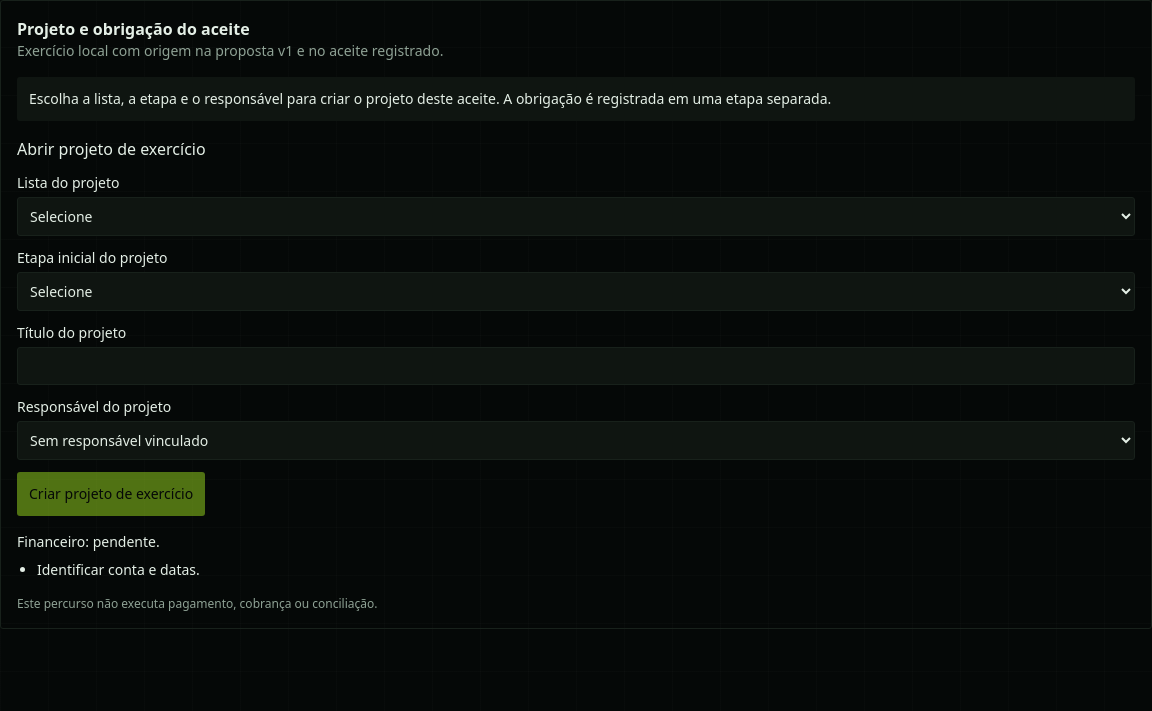
Test case: ponte comercial com API simulada › resposta perdida preserva só identificadores e recovery GET404 não libera outro POST
Select "Lista QA" in the dropdown labelled "Lista do projeto" at coordinates (576, 216), box left=17, top=197, right=1135, bottom=236
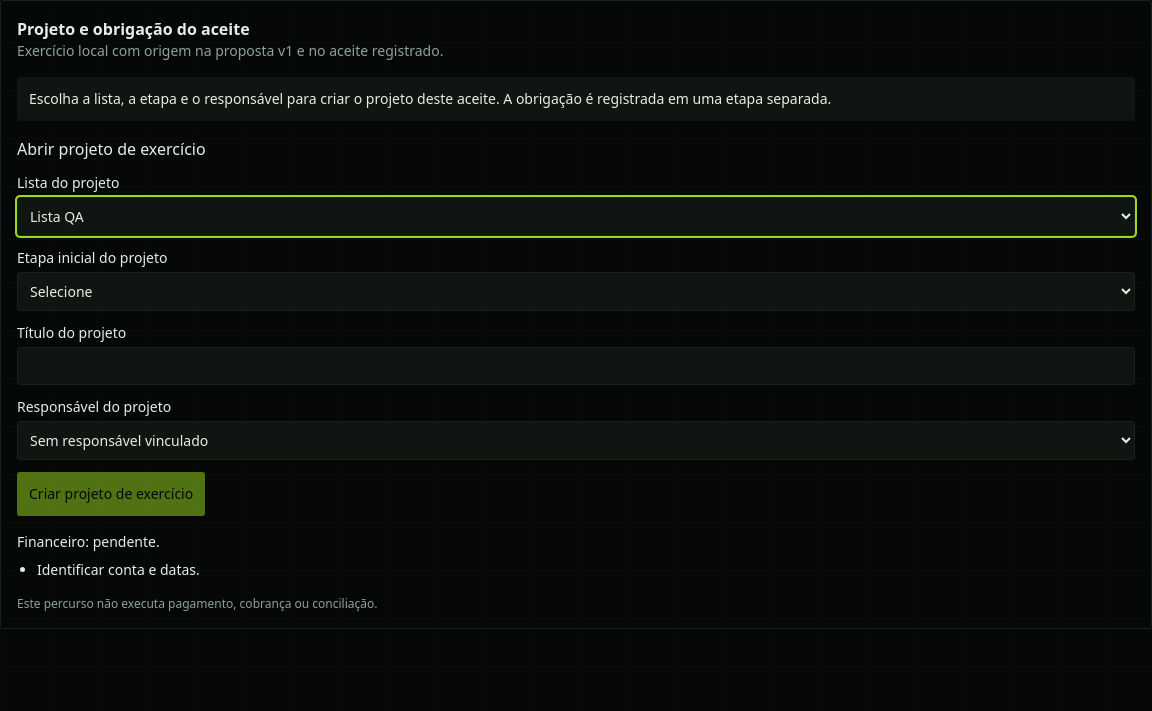
Select "Etapa QA" in the dropdown labelled "Etapa inicial do projeto" at coordinates (576, 292), box left=17, top=272, right=1135, bottom=311
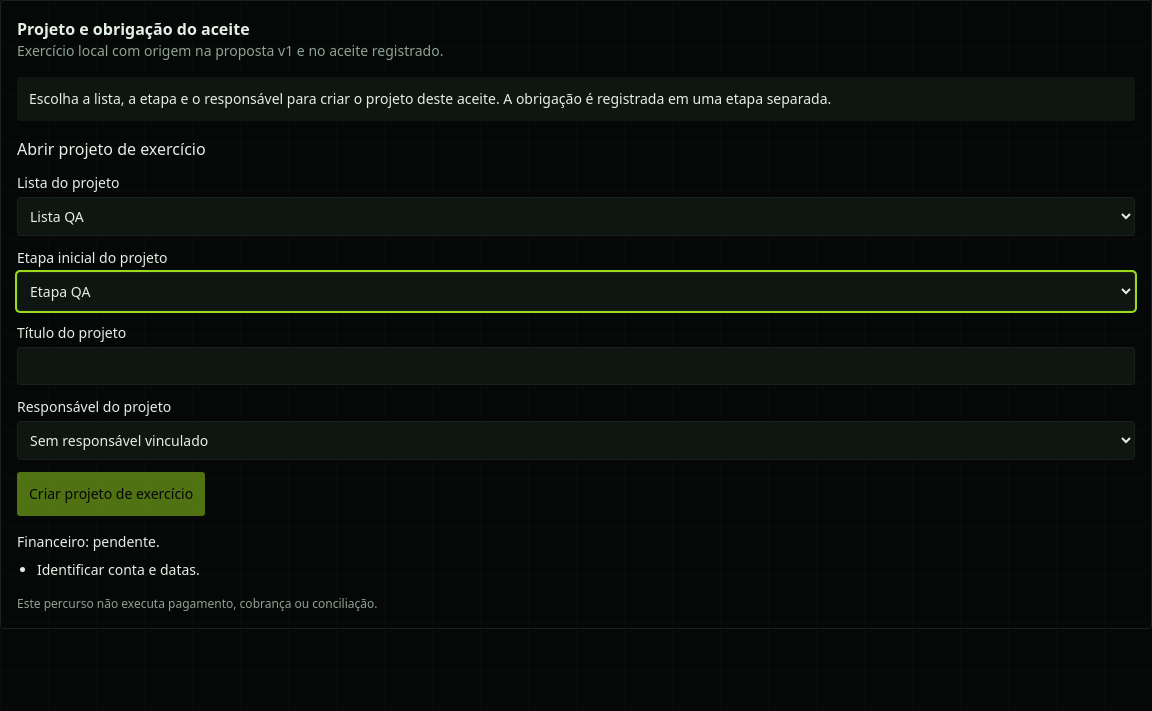
Type "Projeto QA privado" into the field labelled "Título do projeto" at coordinates (576, 366), box left=17, top=347, right=1135, bottom=385
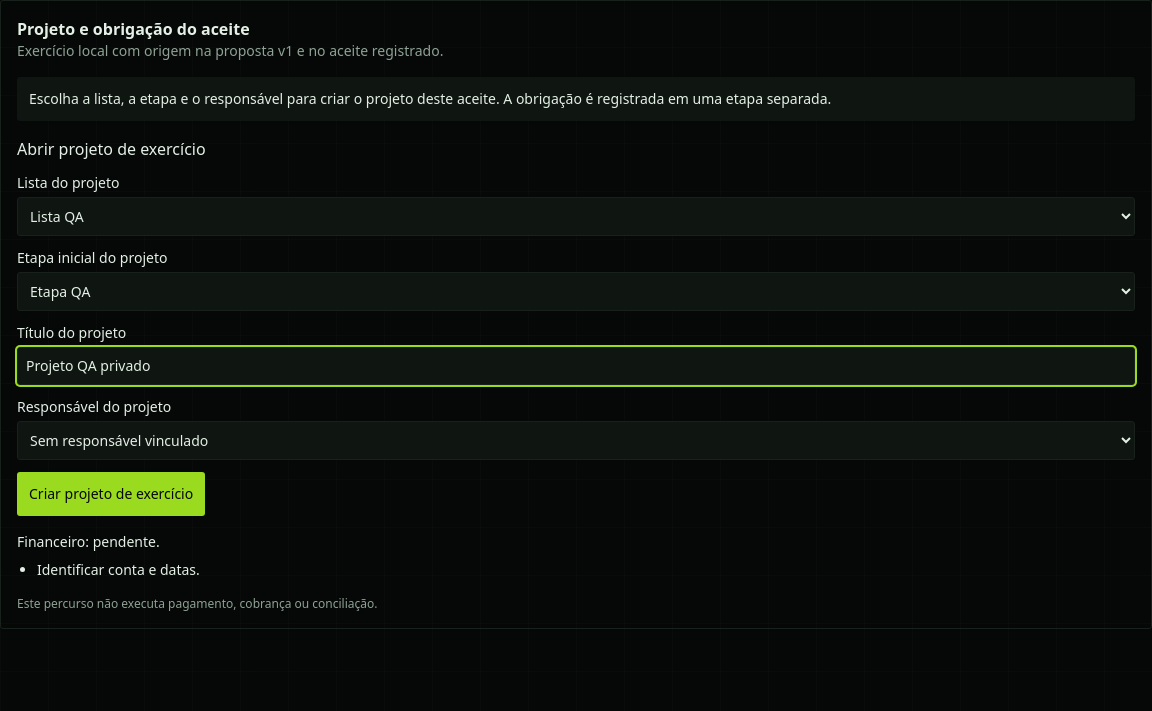
Click the button "Criar projeto de exercício" at coordinates (111, 494), box left=17, top=472, right=205, bottom=516
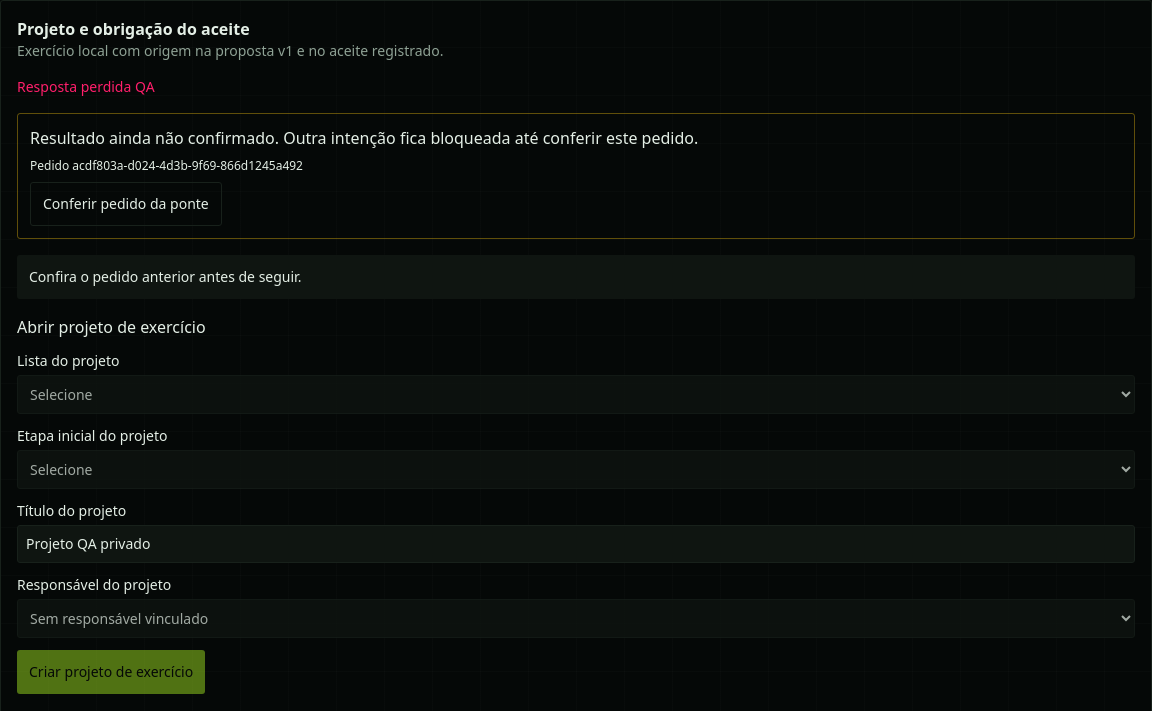
Expected: the text "Resposta perdida QA" is shown, left=17, top=77, right=155, bottom=96
Click the button "Conferir pedido da ponte" at coordinates (126, 204), box left=30, top=182, right=222, bottom=226
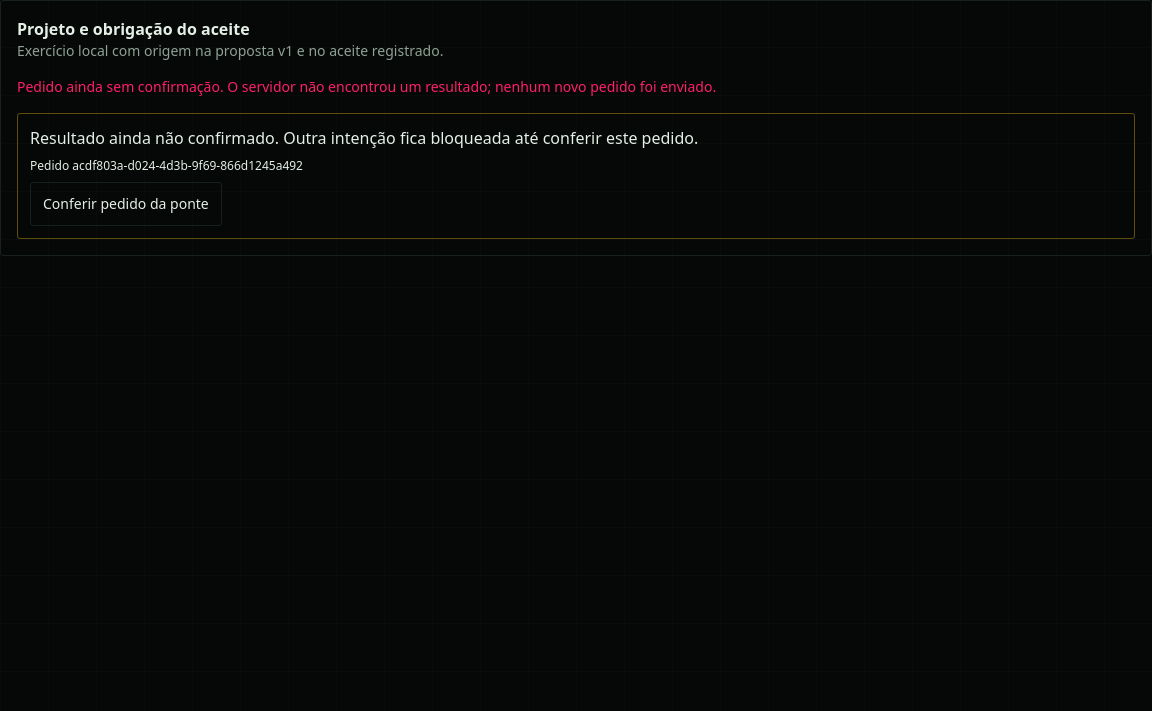
Expected: the text "Pedido ainda sem confirmação" is shown, left=17, top=77, right=716, bottom=96
Expected: the button "Criar projeto de exercício" is gone
